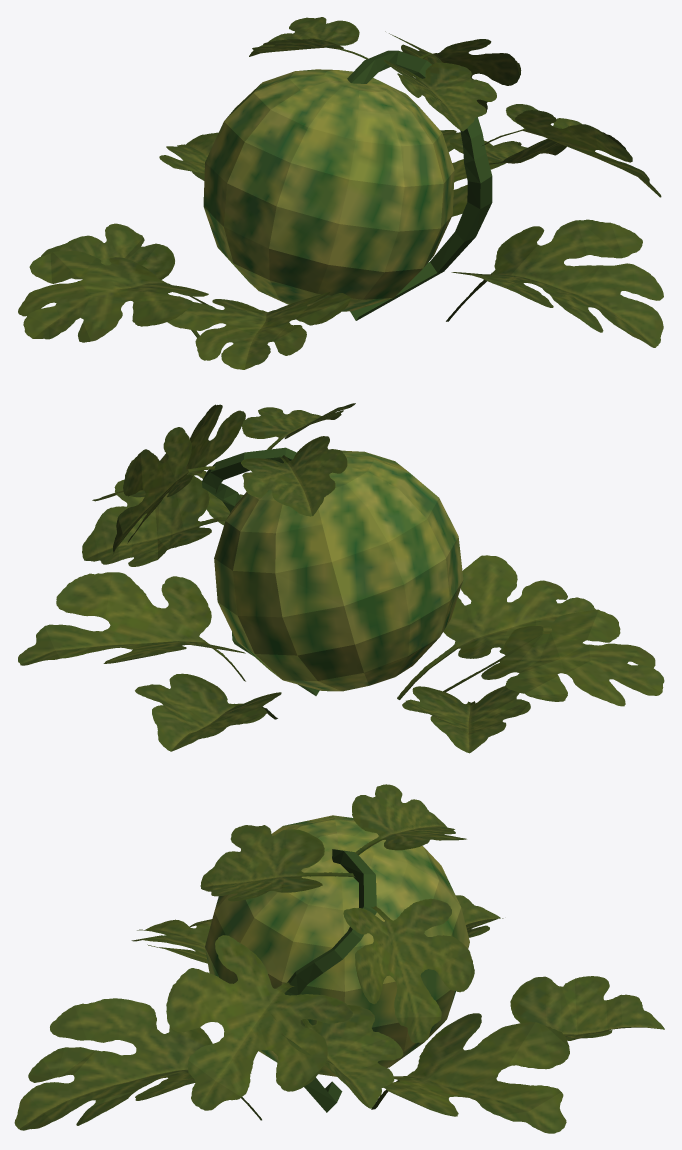
The model's file is Watermelon_02.obj.
3 renders of one model, top to bottom at view 1: azimuth 30°, elevation 25°; view 2: azimuth 150°, elevation 25°; view 3: azimuth 270°, elevation 25°, orthographic. The views are drawn at different scales.
Size of the model in its own units: 0.6942 by 0.3163 by 0.6384.
Materials: 1 (1 with a texture image).
